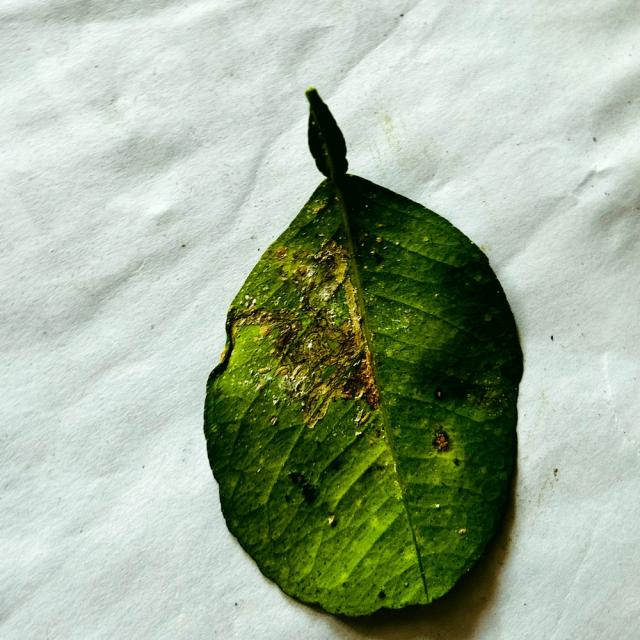Bacterial_Blight: (233, 296, 307, 379), (301, 333, 368, 421), (328, 254, 373, 385), (275, 338, 348, 390), (310, 243, 347, 286), (355, 231, 389, 265), (314, 271, 343, 306), (474, 380, 506, 408), (306, 409, 323, 429), (391, 476, 404, 501), (219, 345, 229, 363), (314, 203, 327, 214), (391, 458, 398, 475), (306, 278, 315, 291), (393, 479, 401, 490)
Lemon: (203, 90, 524, 620)
